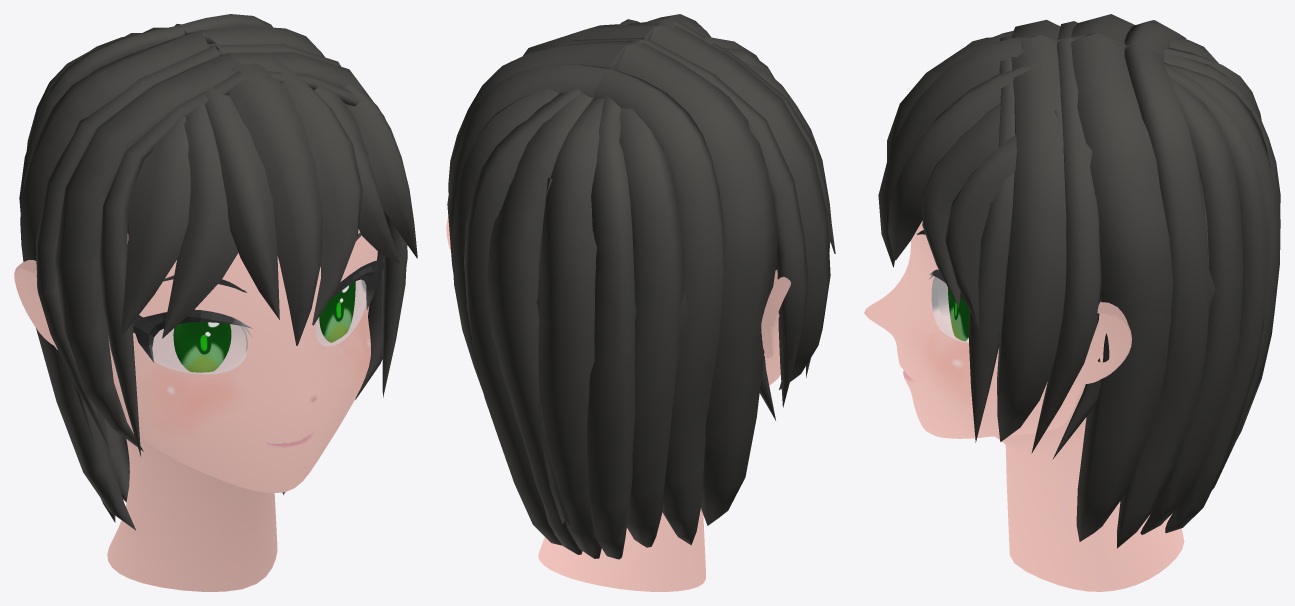
Rendered from open_rab_project.glb.
3 views of the same model, side by side, from view 1: azimuth 30°, elevation 25°; view 2: azimuth 150°, elevation 25°; view 3: azimuth 270°, elevation 25° (orthographic).
Parts seen in each view (by area): view 1: 円, NURBSパス.002, NURBSパス, NURBSパス.003; view 2: NURBSパス.003, NURBSパス.002, 円, NURBSパス, 球; view 3: NURBSパス.002, 円, NURBSパス.003, NURBSパス.
Part boxes in pixels (bbox=[...]): 円: bbox=[14, 229, 384, 591]; NURBSパス.002: bbox=[19, 14, 407, 530]; NURBSパス: bbox=[120, 54, 417, 345]; NURBSパス.003: bbox=[26, 24, 186, 502]; NURBSパス.003: bbox=[451, 88, 684, 559]; NURBSパス.002: bbox=[447, 20, 830, 545]; 円: bbox=[446, 217, 790, 591]; NURBSパス: bbox=[554, 14, 835, 253]; 球: bbox=[536, 97, 777, 334]; NURBSパス.002: bbox=[968, 14, 1208, 548]; 円: bbox=[864, 221, 1184, 591]; NURBSパス.003: bbox=[1140, 39, 1280, 534]; NURBSパス: bbox=[878, 33, 1061, 330].
Bounding box in the file's own units: 11.01 × 16.16 × 11.61.
Materials: 7 (3 with a texture image).
